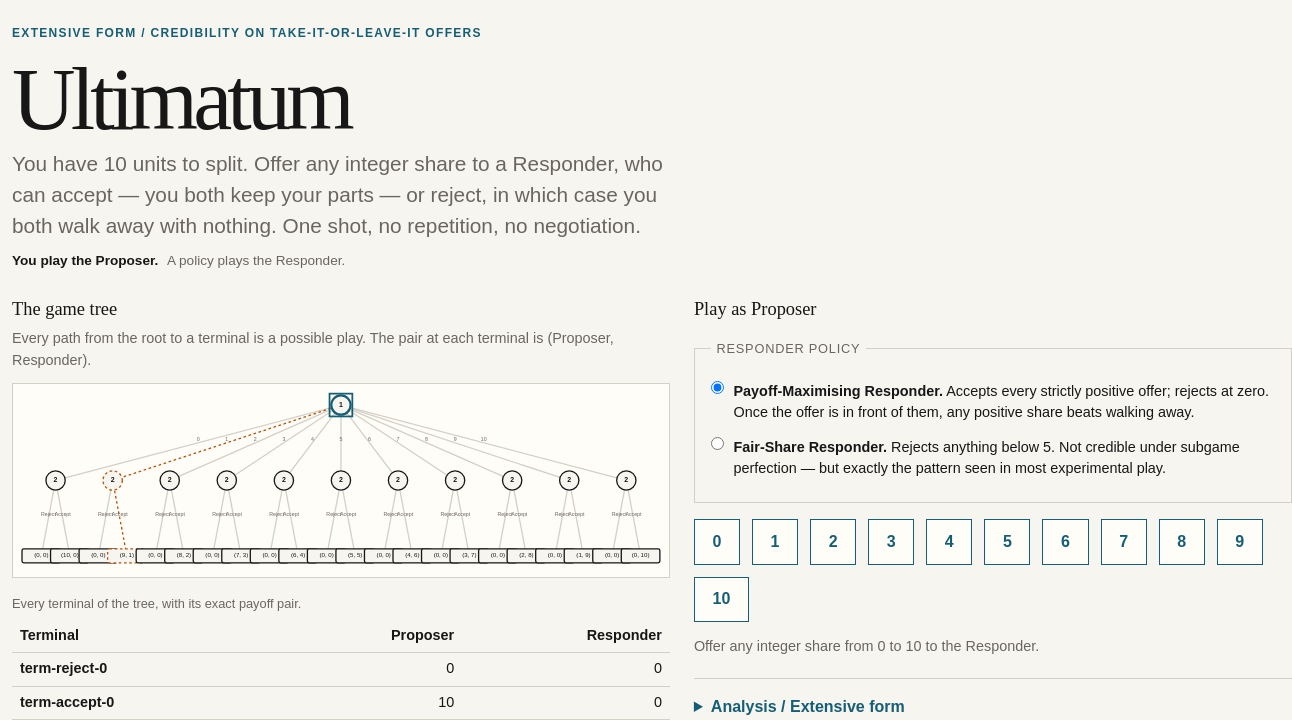
extensive-form play surface — ultimatum › offering 1 to the payoff-maximising responder yields (9, 1)
This screenshot has width=1292, height=720.
What coordinates should you click on to do the following:
click the button "1"
I would click on:
 (775, 542)
Its box is left=752, top=519, right=798, bottom=565.
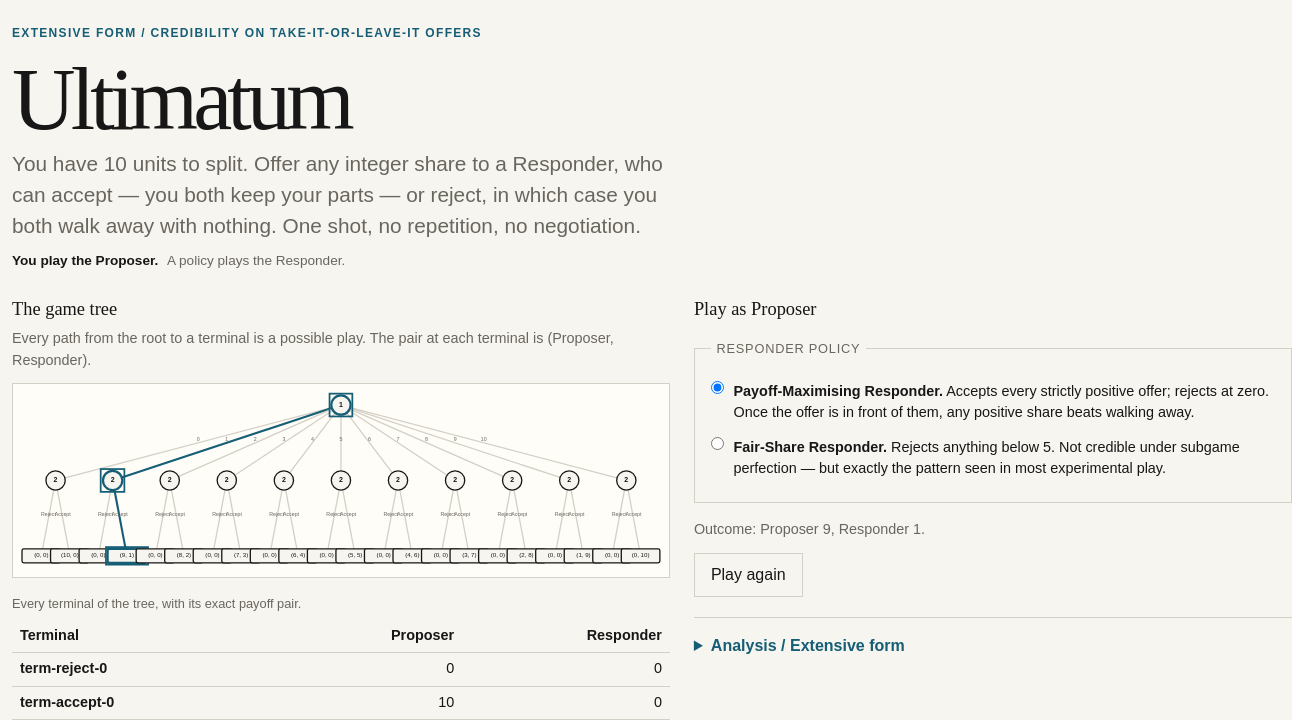
Check: the text "Outcome: Proposer 9, Responder 1." is shown, box left=694, top=521, right=925, bottom=537
